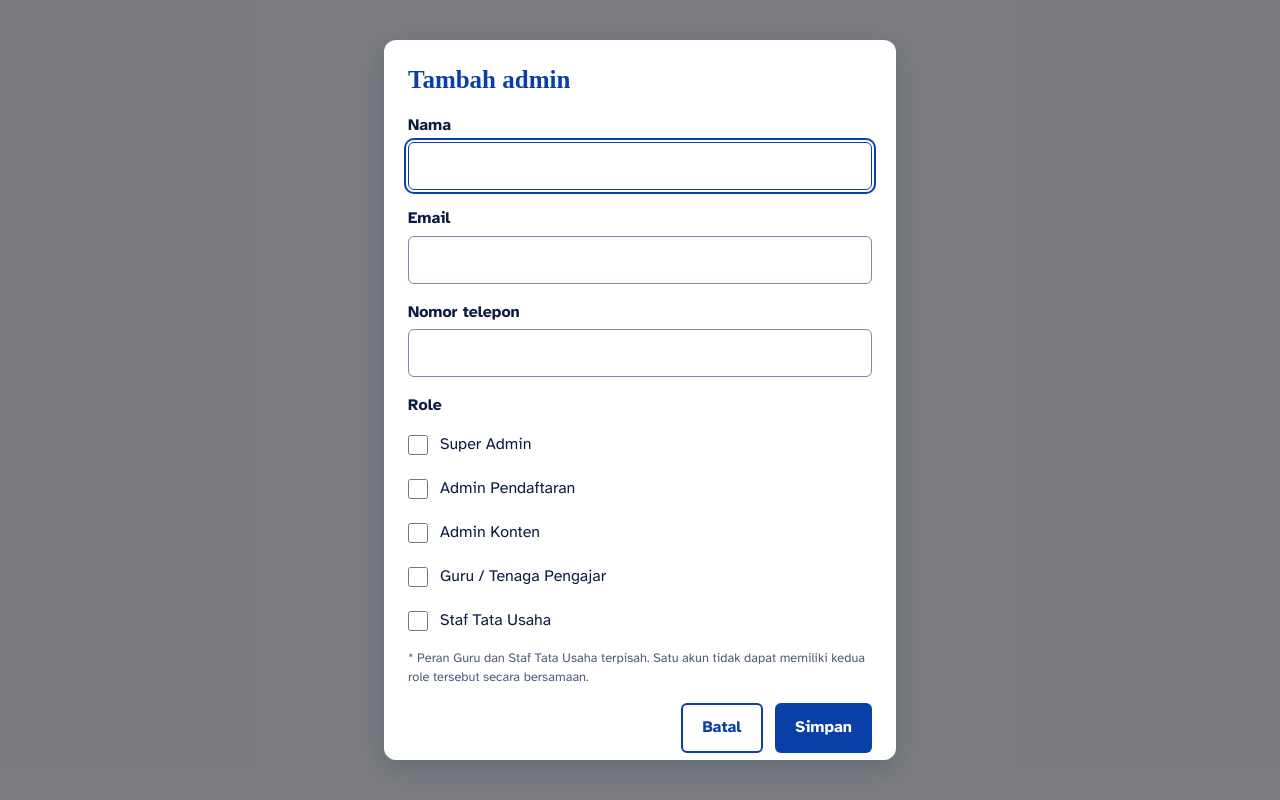
UserFormModal — tambah admin › galat lain (409/403) tampil sebagai alert di dalam dialog
Type "Dewi" into the field labelled "Nama".
click(640, 166); type("Dewi")  # box [408,142,872,190]
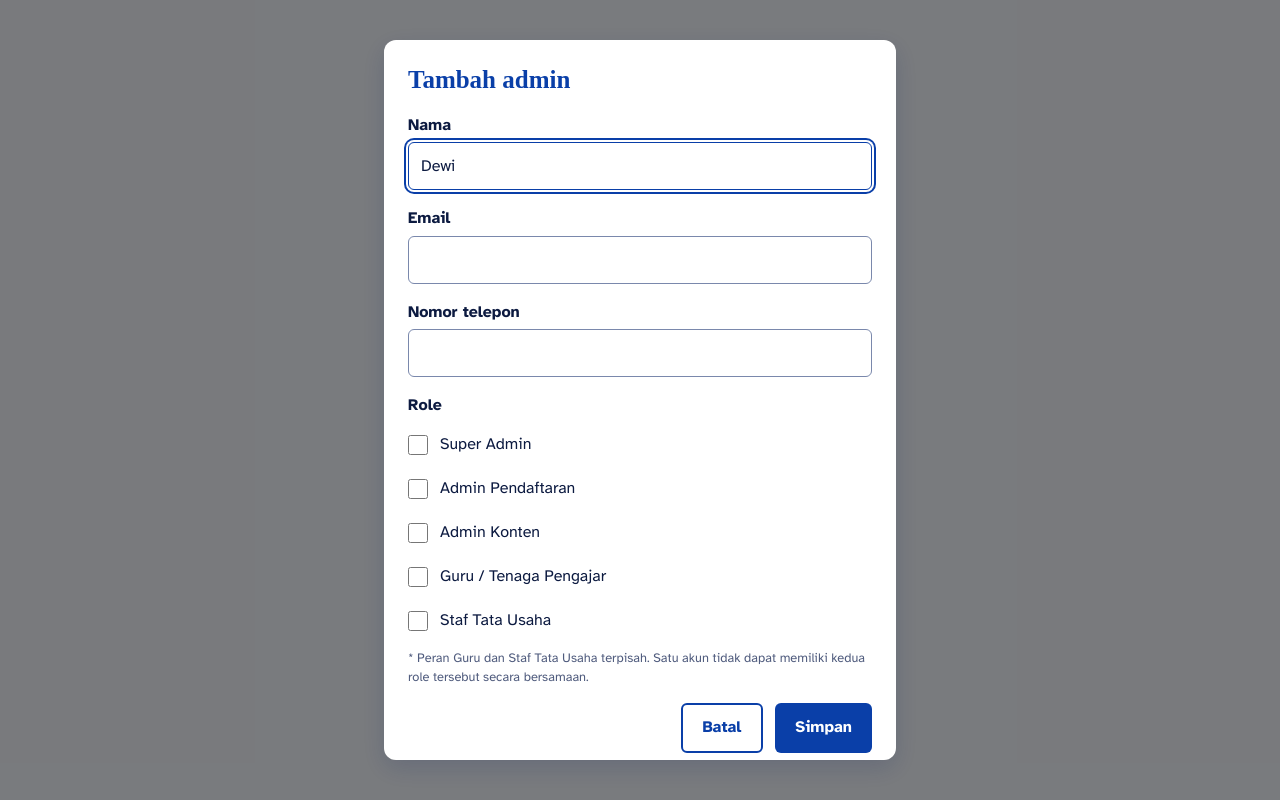
Type "dewi@padindi.test" into the field labelled "Email".
click(640, 260); type("dewi@padindi.test")  # box [408,236,872,284]
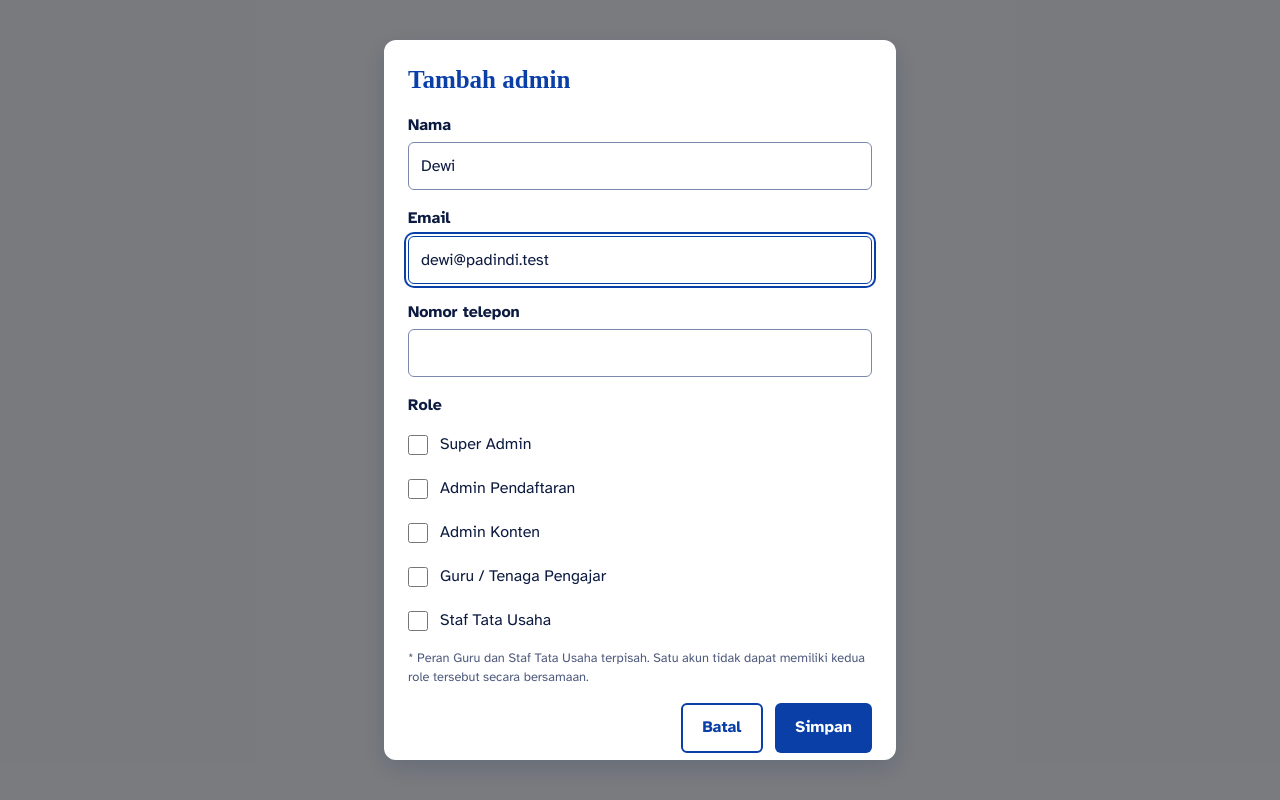
Click the checkbox labelled "Admin Konten".
click(418, 533)  # box [408,523,428,543]
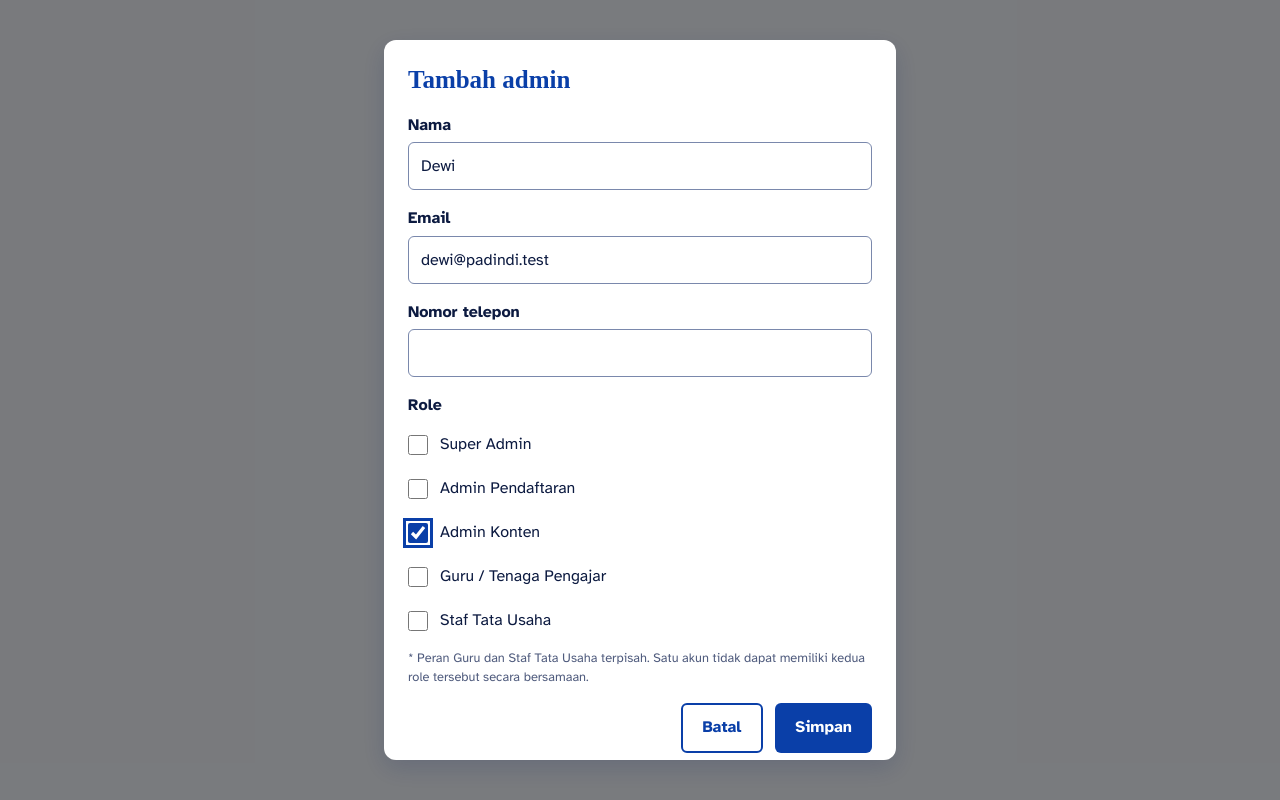
Click the button "Simpan".
click(824, 728)  # box [775,703,872,753]
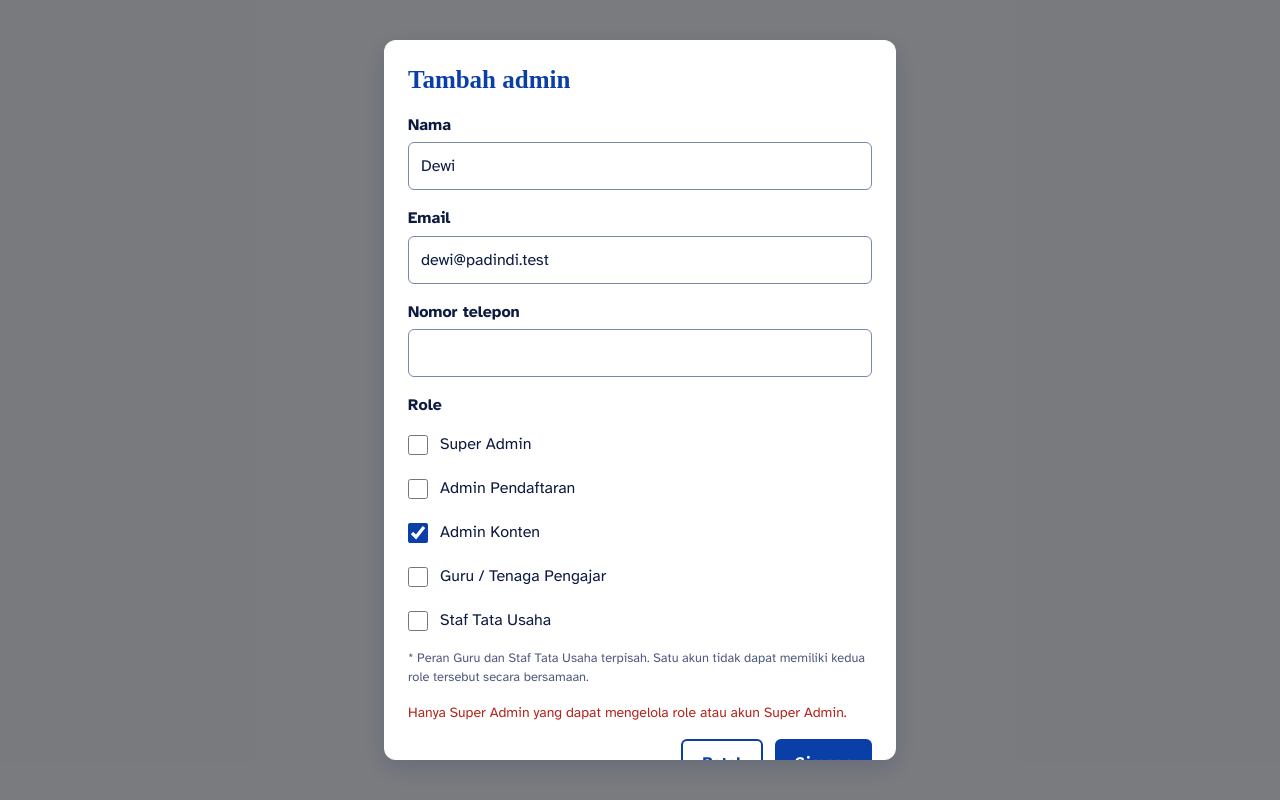
expect the message shows "Hanya Super Admin": met, box [408,704,847,721]
